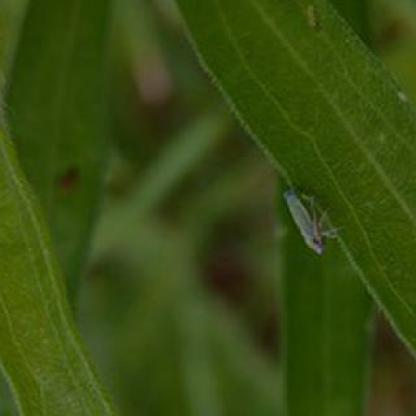green-leafhopper: (282, 184, 334, 256)
